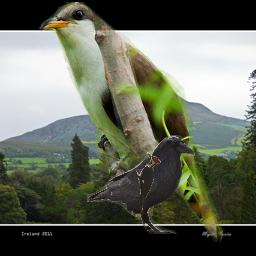Crow: (87, 135, 195, 234)
Cuckoo: (34, 2, 234, 242)
Woodpecker: (133, 152, 161, 213)
